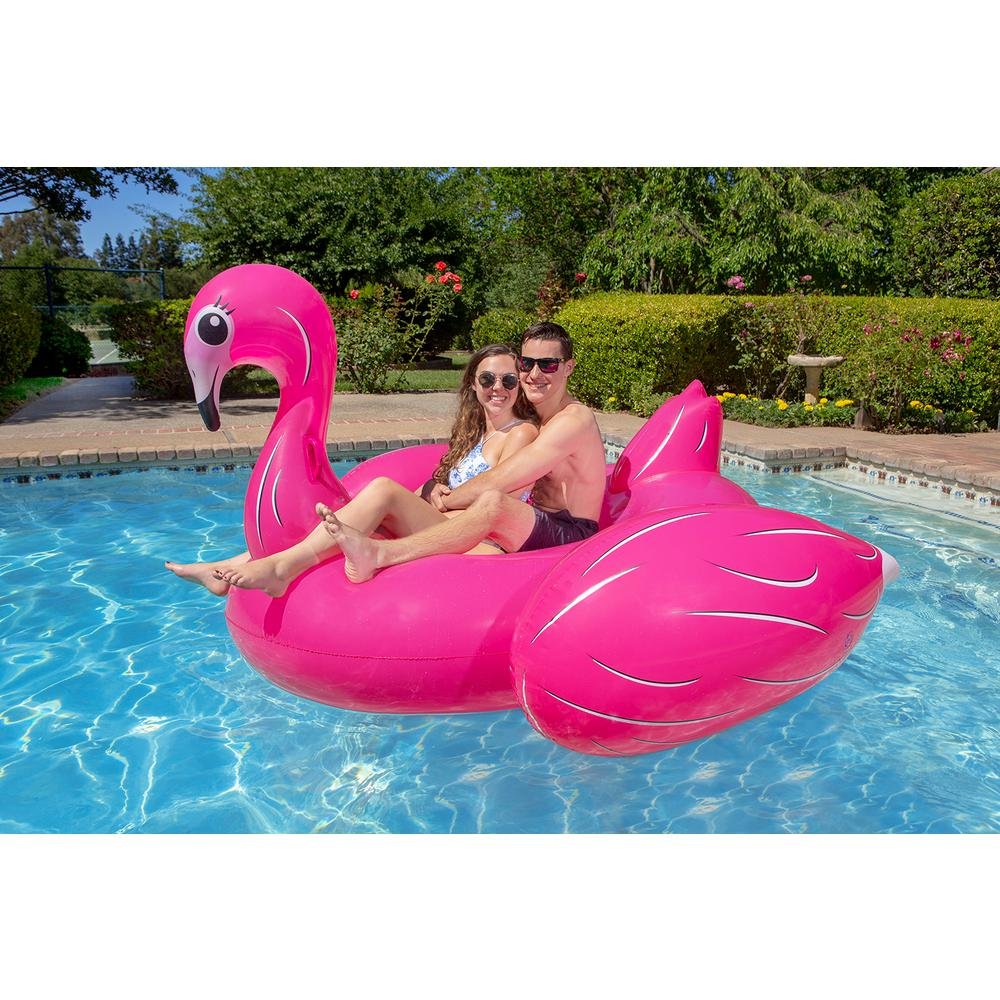Flamingo: (174, 263, 888, 767)
